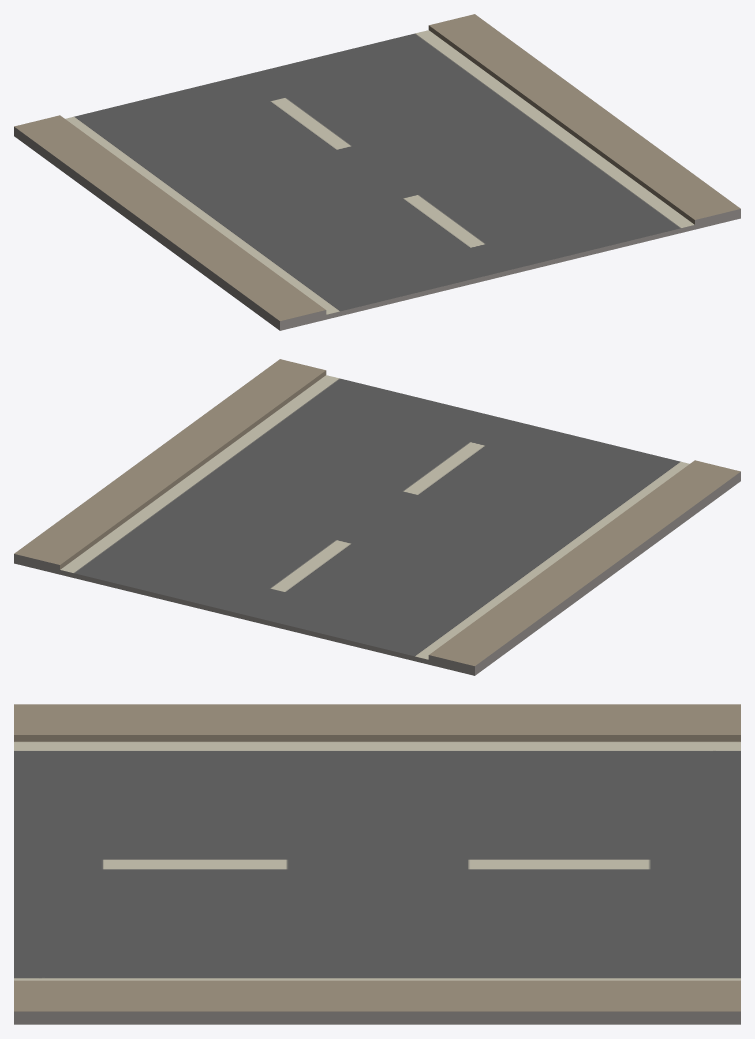
Rendered from road_straight_coloured.glb.
The picture shows the model from 3 angles, top to bottom: view 1: azimuth 30°, elevation 25°; view 2: azimuth 150°, elevation 25°; view 3: azimuth 270°, elevation 25°; orthographic projection. The views are drawn at different scales.
Visible parts, largest first — view 1: Cube; view 2: Cube; view 3: Cube.
Part boxes in pixels (box(x1,y1,x2,y2)): Cube: box(14, 14, 740, 330); Cube: box(14, 359, 740, 675); Cube: box(14, 704, 740, 1024).
Size of the model in its own units: 15 by 0.3 by 15.
1 material, 1 textured.
